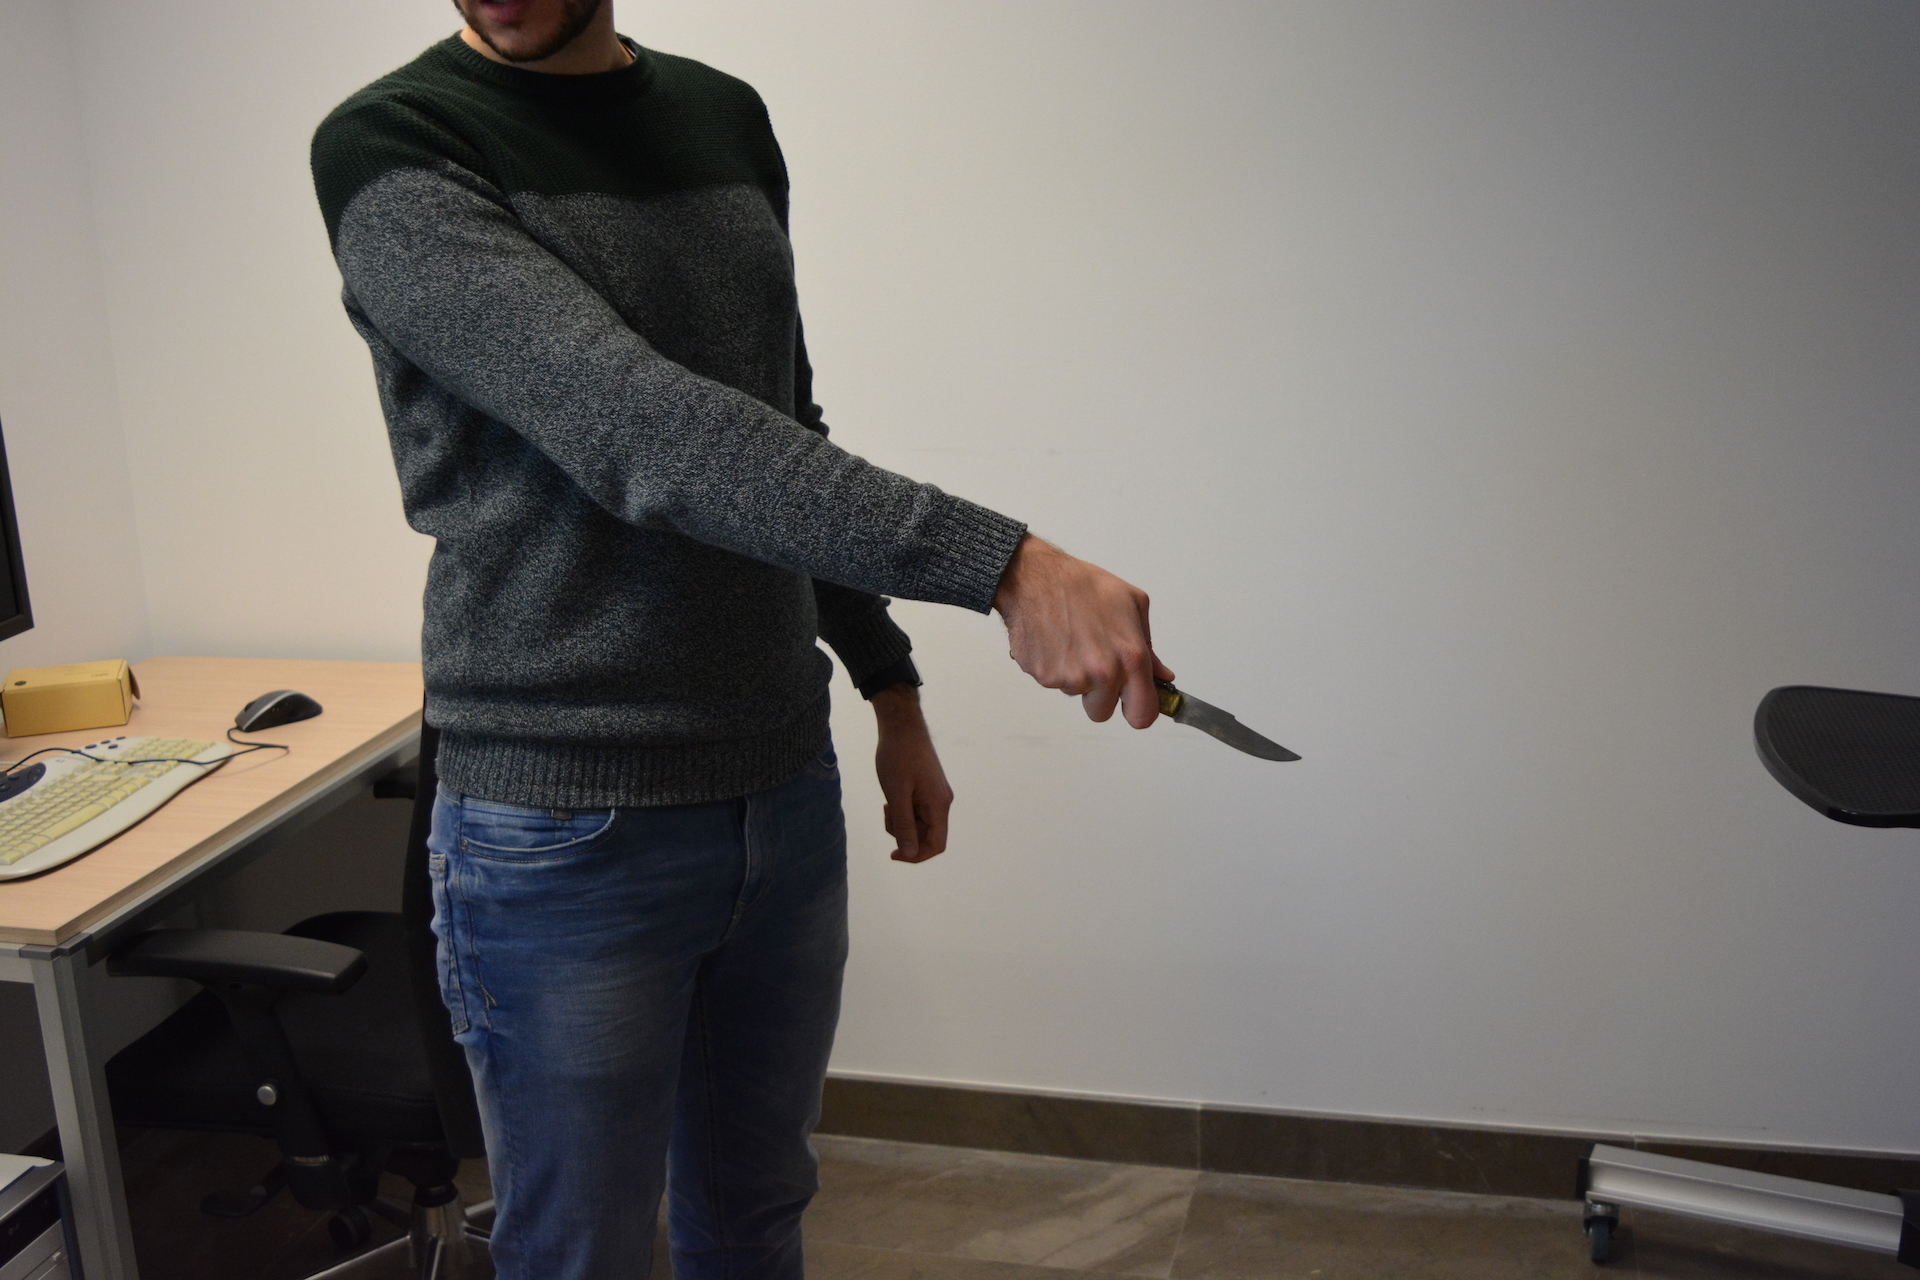knife: (1066, 633, 1321, 774)
